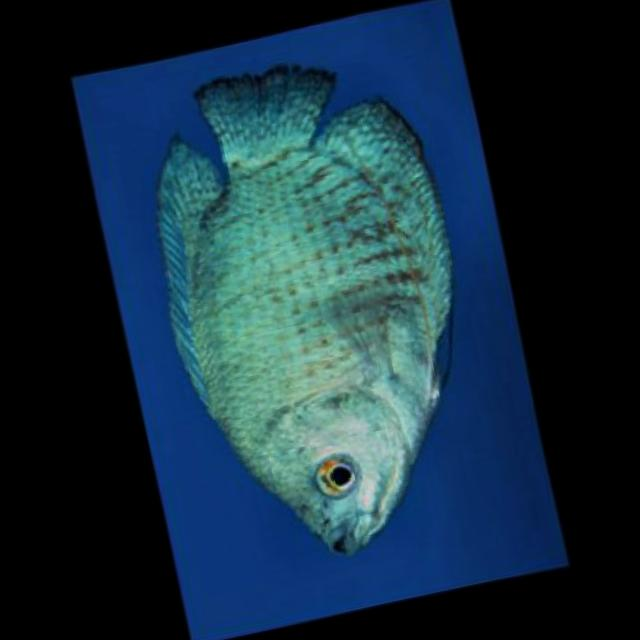Gourami: (113, 34, 510, 584)
